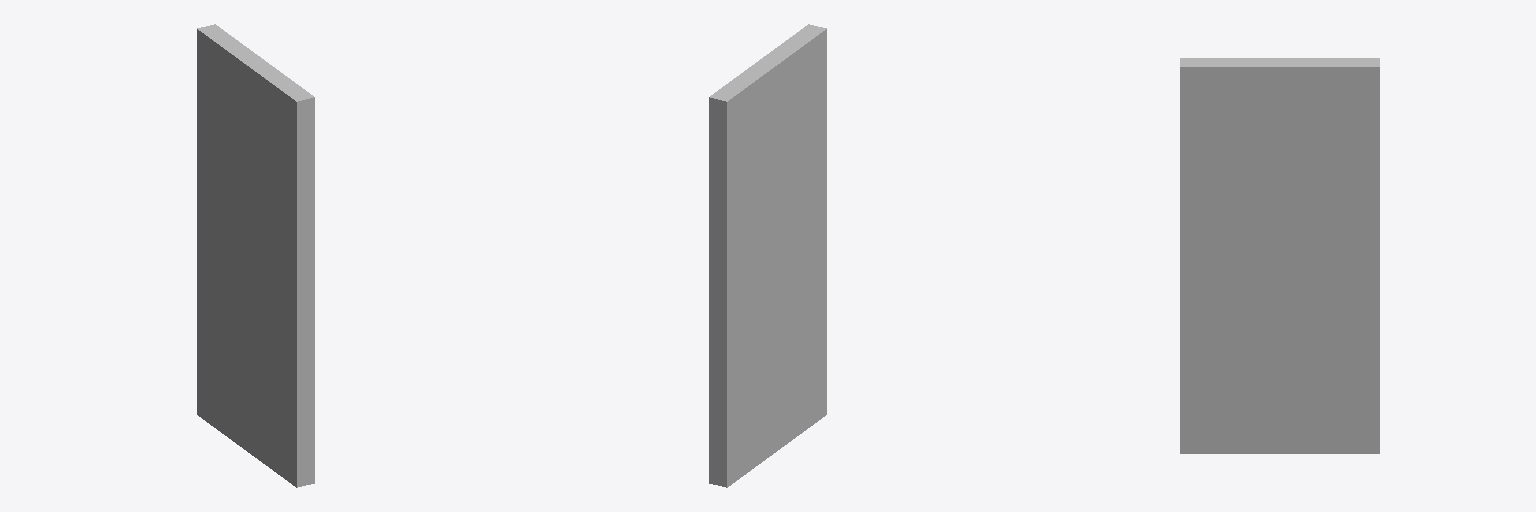
The model's file is ultrakillDoor.obj.
3 renders of one model, left to right at view 1: azimuth 30°, elevation 25°; view 2: azimuth 150°, elevation 25°; view 3: azimuth 270°, elevation 25°, orthographic.
Parts seen in each view (by area): view 1: Door_right__[number redacted]; view 2: Door_right__[number redacted]; view 3: Door_right__[number redacted].
Boxes of the visible parts, x1=… form: Door_right__[number redacted]: x1=197, y1=24, x2=314, y2=487; Door_right__[number redacted]: x1=709, y1=24, x2=826, y2=487; Door_right__[number redacted]: x1=1180, y1=58, x2=1379, y2=453.
Size of the model in its own units: 0.4 by 8 by 3.75.